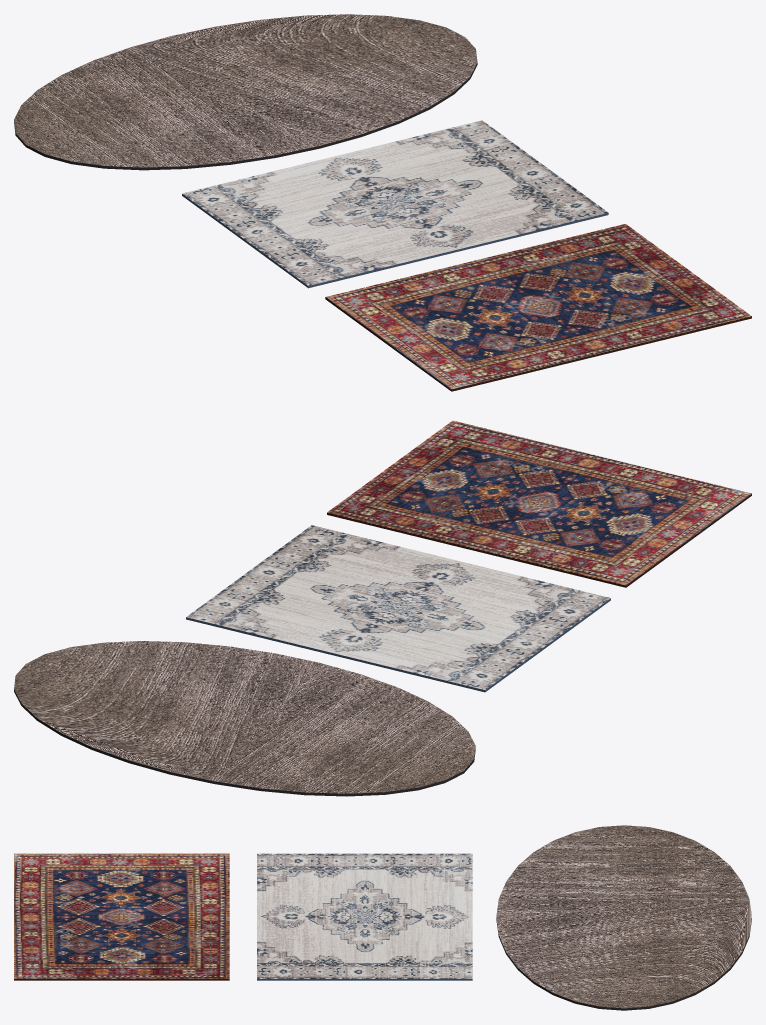
File: CollectionOfRugs.fbx
The picture shows the model from 3 angles, top to bottom: view 1: azimuth 30°, elevation 25°; view 2: azimuth 150°, elevation 25°; view 3: azimuth 270°, elevation 25°; orthographic projection. The views are drawn at different scales.
Parts seen in each view (by area): view 1: Cylinder.005, Cube.012, Cube.011; view 2: Cylinder.005, Cube.012, Cube.011; view 3: Cylinder.005, Cube.011, Cube.012.
Boxes of the visible parts, x1,y1,x2,y2 form: Cylinder.005: (14, 14, 477, 170); Cube.012: (182, 120, 608, 288); Cube.011: (325, 224, 751, 391); Cylinder.005: (14, 641, 475, 796); Cube.012: (186, 525, 610, 692); Cube.011: (327, 420, 751, 587); Cylinder.005: (496, 825, 751, 1010); Cube.011: (14, 853, 229, 980); Cube.012: (257, 853, 472, 980).
Size of the model in its own units: 1590 by 9.62 by 2708.
